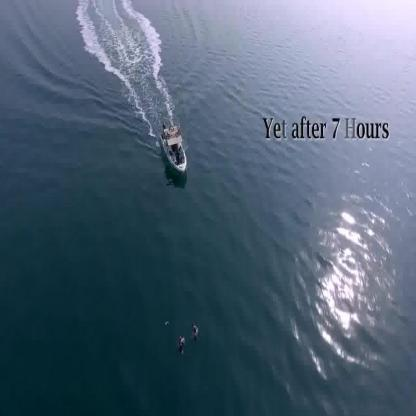Boat: (158, 117, 188, 181)
